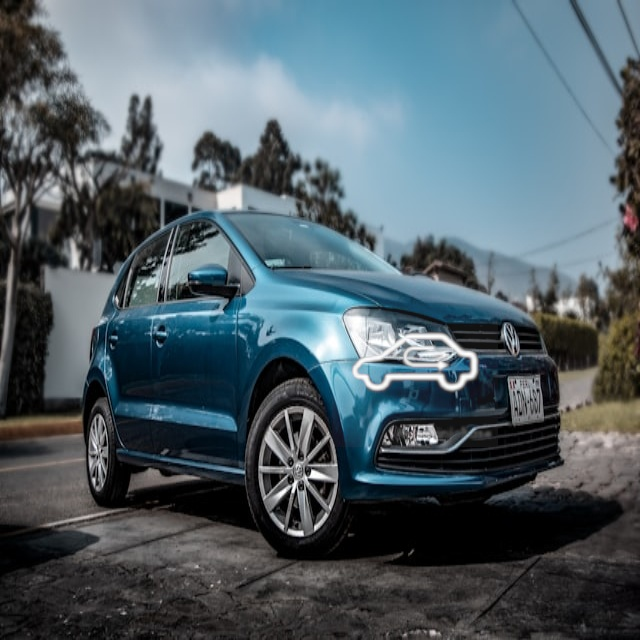symbol: (332, 281, 498, 447)
